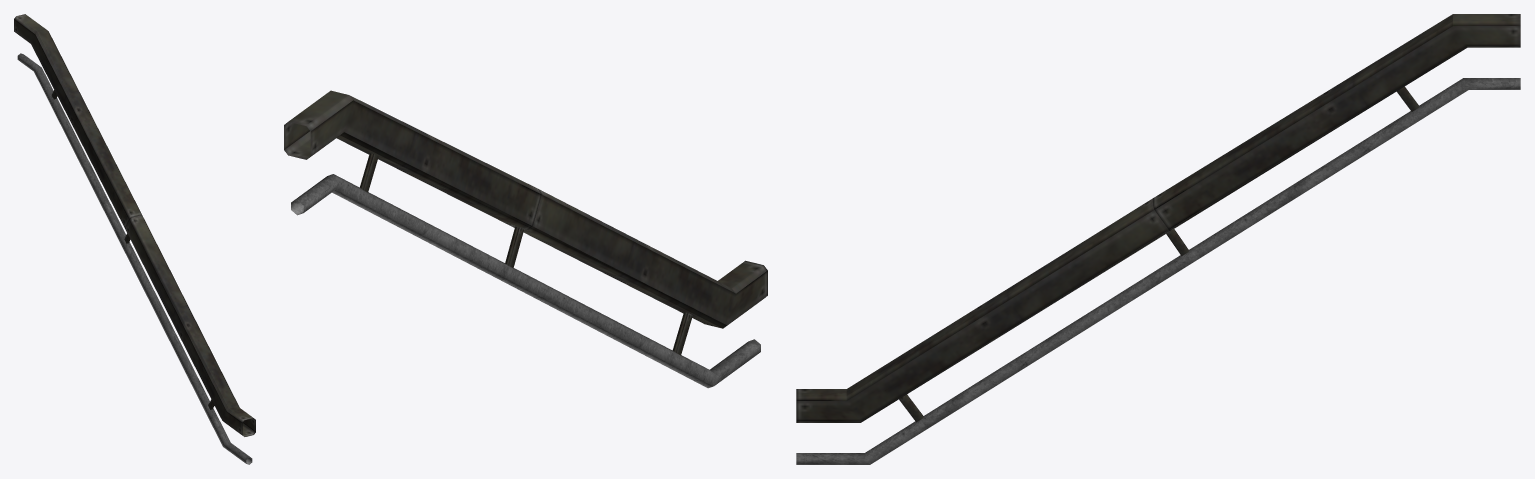
File: railing_ceiling_vertical_raise_long.dae
3 views of the same model, side by side, from view 1: azimuth 30°, elevation 25°; view 2: azimuth 150°, elevation 25°; view 3: azimuth 270°, elevation 25° (orthographic). The views are drawn at different scales.
Visible parts, largest first — view 1: polySurface672, polySurface622; view 2: polySurface672, polySurface622; view 3: polySurface672, polySurface622.
Boxes of the visible parts, bbox=[...] form: polySurface672: bbox=[14, 14, 255, 436]; polySurface622: bbox=[17, 53, 252, 464]; polySurface672: bbox=[284, 90, 767, 355]; polySurface622: bbox=[291, 174, 760, 388]; polySurface672: bbox=[796, 14, 1520, 422]; polySurface622: bbox=[796, 78, 1520, 464].
Size of the model in its own units: 0.2347 by 4.77 by 7.
